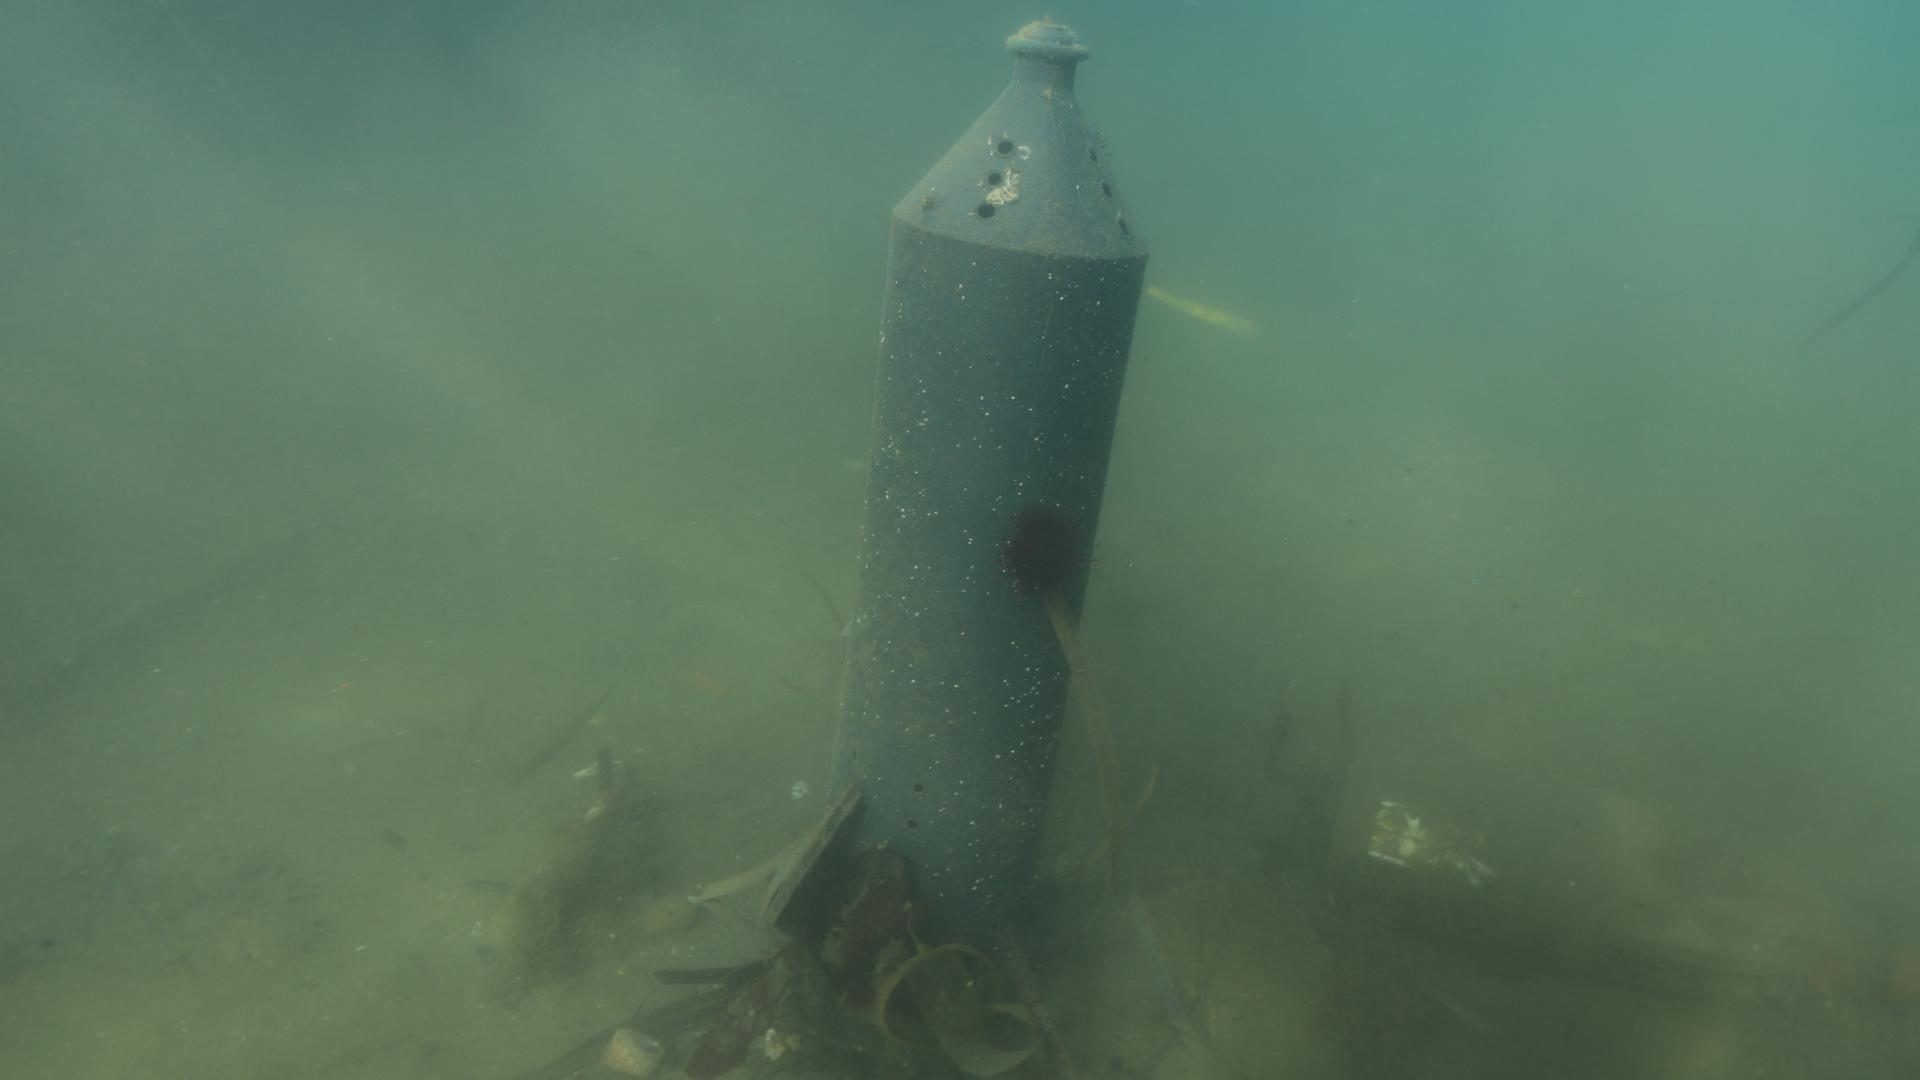eel fish trap: (820, 16, 1153, 986)
